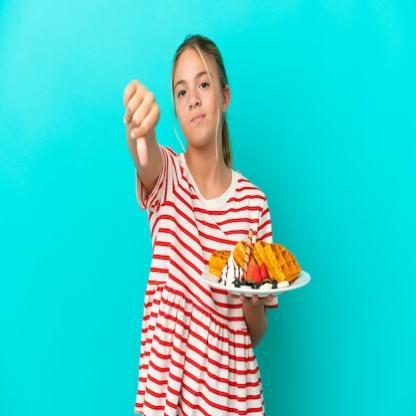thumb_down: (121, 74, 163, 168)
